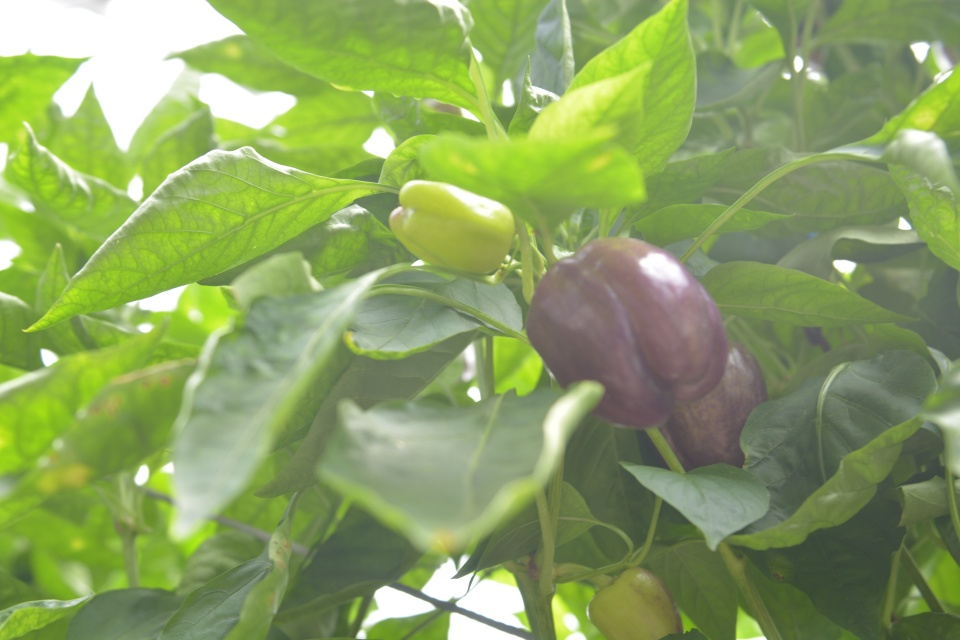fruit: (524, 234, 731, 432), (634, 336, 771, 492)
immature: (386, 178, 512, 276), (584, 564, 687, 640)
